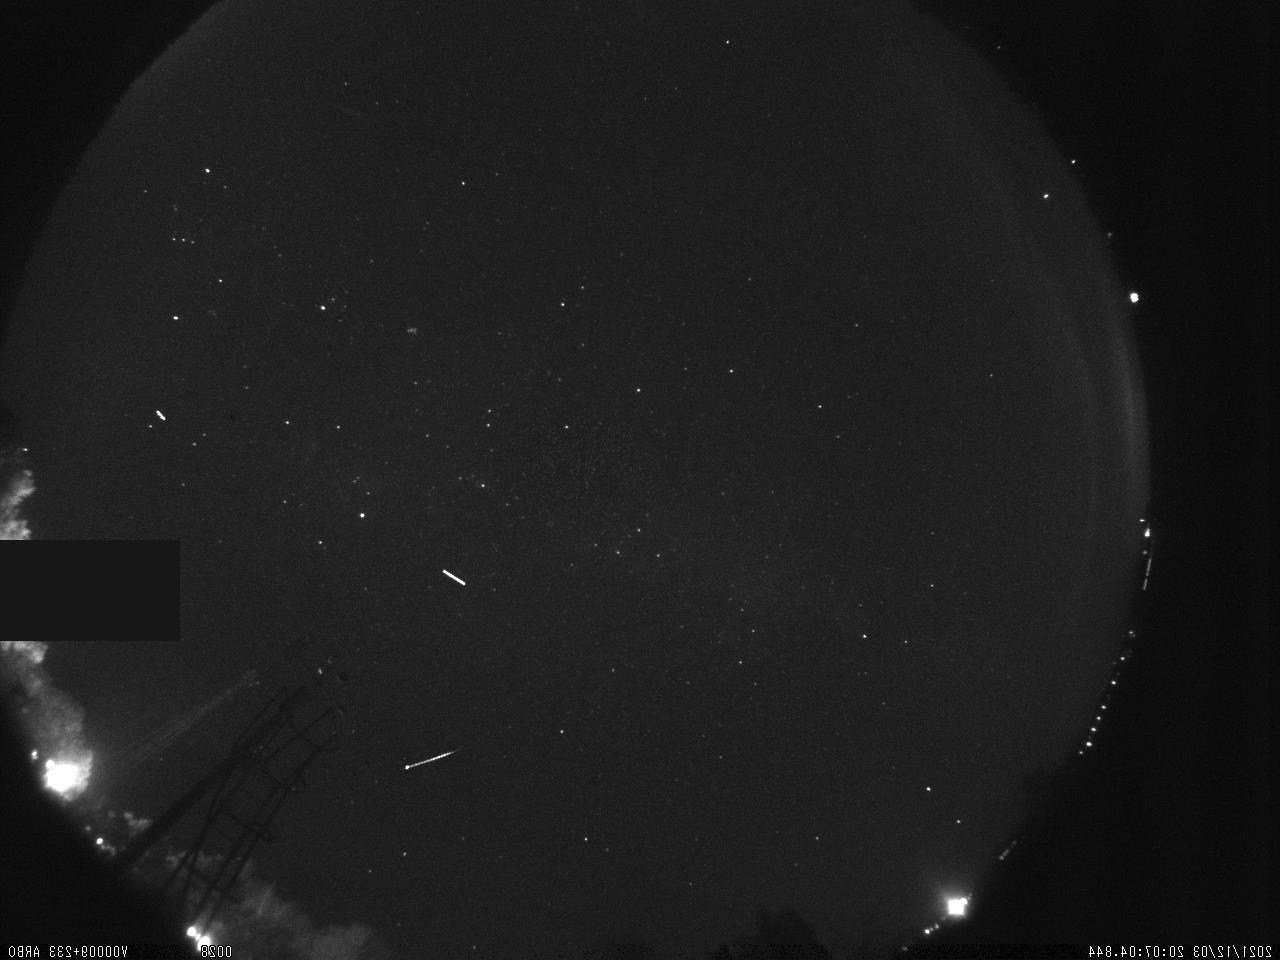meteor: (399, 740, 463, 776)
satelite: (440, 563, 472, 594)
